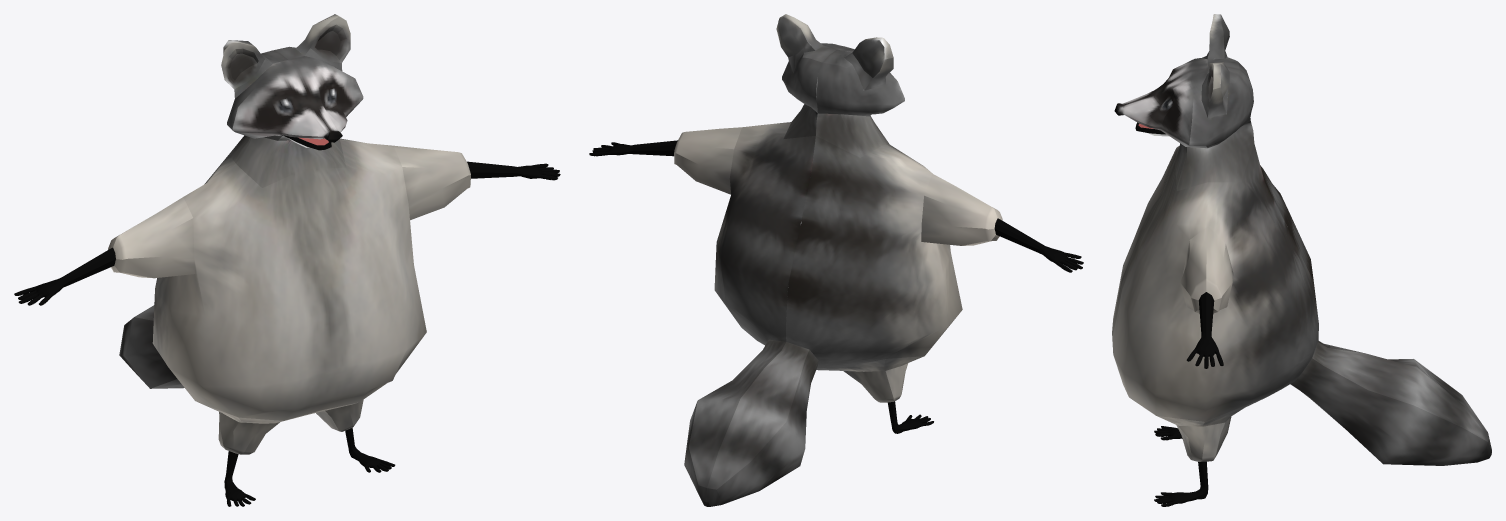
File: maurice.fbx
3 renders of one model, left to right at view 1: azimuth 30°, elevation 25°; view 2: azimuth 150°, elevation 25°; view 3: azimuth 270°, elevation 25°, orthographic. The views are drawn at different scales.
Parts seen in each view (by area): view 1: Maurice; view 2: Maurice; view 3: Maurice.
Boxes of the visible parts, x1,y1,x2,y2 form: Maurice: (14,14,560,506); Maurice: (589,14,1083,506); Maurice: (1112,14,1491,506).
Bounding box in the file's own units: 26.98 × 20.92 × 16.8.
